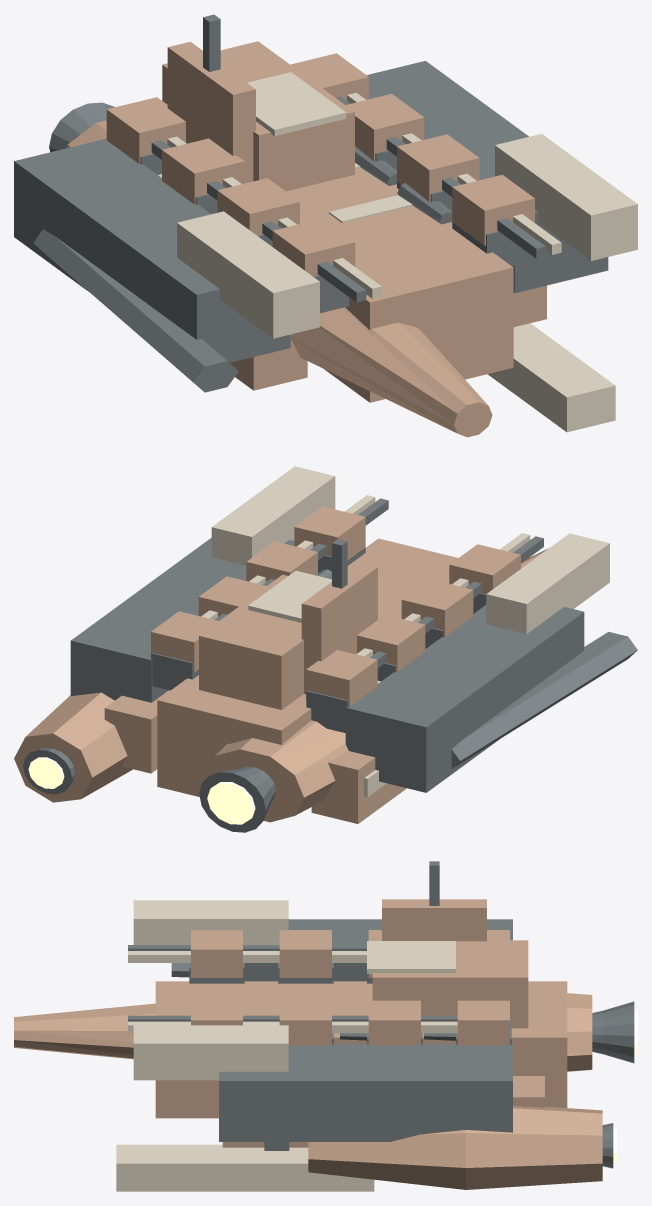
3 views of the same model, one above another, from view 1: azimuth 30°, elevation 25°; view 2: azimuth 150°, elevation 25°; view 3: azimuth 270°, elevation 25° (orthographic). The views are drawn at different scales.
Bounding box in the file's own units: 15.55 × 9.82 × 22.44.
